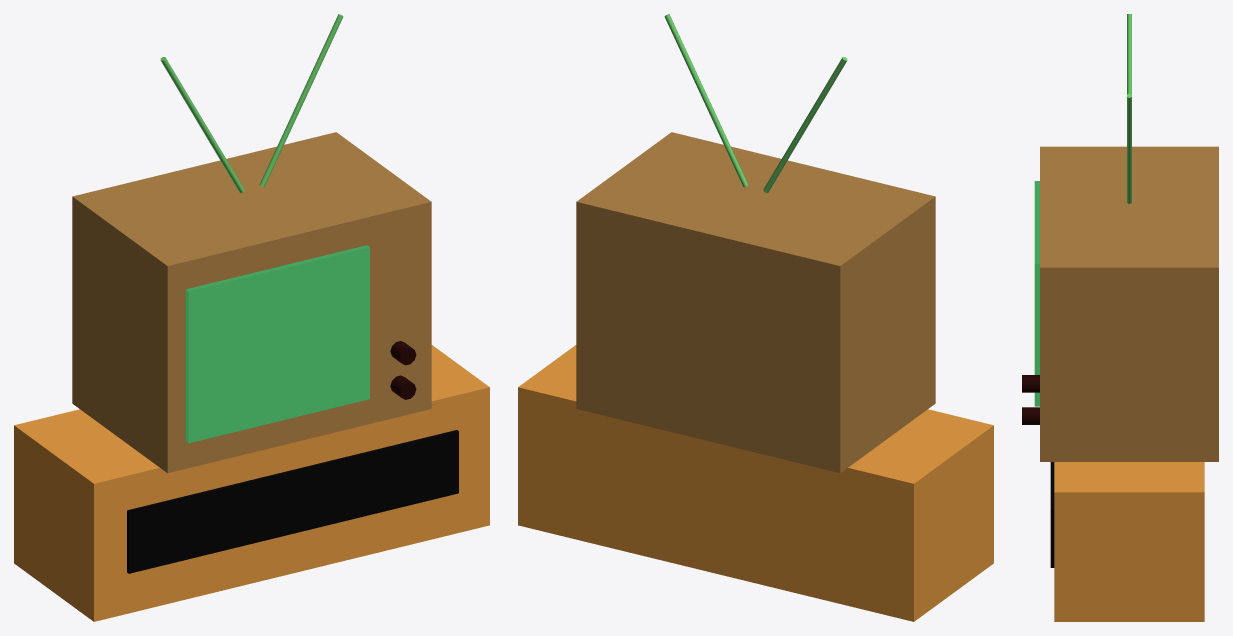
Rendered from tv_fun_0.glb.
The picture shows the model from 3 angles, left to right: view 1: azimuth 30°, elevation 25°; view 2: azimuth 150°, elevation 25°; view 3: azimuth 270°, elevation 25°; orthographic projection. The views are drawn at different scales.
Bounding box in the file's own units: 1.2 × 1.47 × 0.55.
